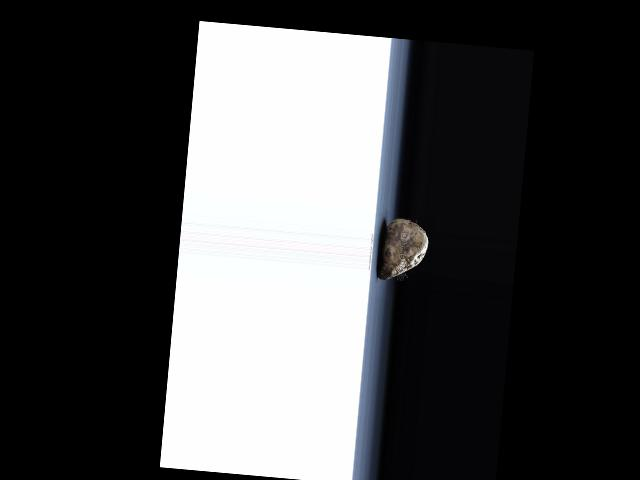beet: (377, 215, 429, 282)
